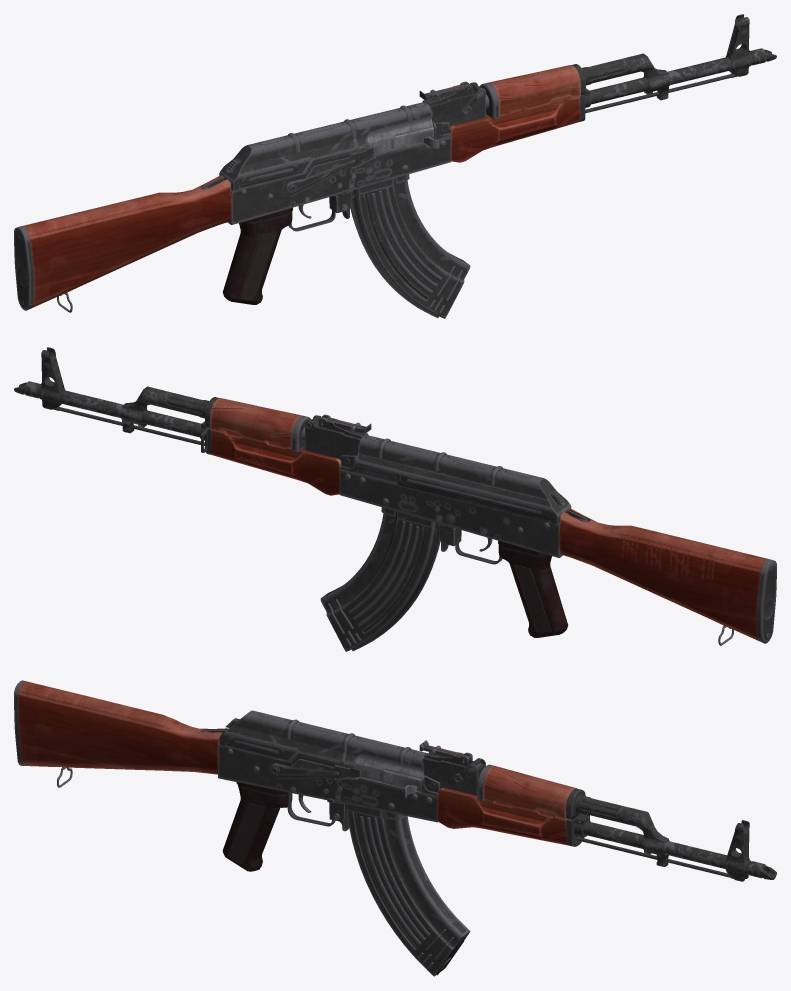
3 views of the same model, one above another, from view 1: azimuth 30°, elevation 25°; view 2: azimuth 150°, elevation 25°; view 3: azimuth 330°, elevation 25° (orthographic).
Parts seen in each view (by area): view 1: AKA_47, AKA_47.004, AKA_47.003; view 2: AKA_47, AKA_47.004, AKA_47.003; view 3: AKA_47, AKA_47.004, AKA_47.003.
Boxes of the visible parts, x1,y1,x2,y2 form: AKA_47: (14,65,580,318); AKA_47.004: (569,14,776,121); AKA_47.003: (571,53,670,100); AKA_47: (210,398,776,651); AKA_47.004: (14,347,221,454); AKA_47.003: (120,386,219,433); AKA_47: (14,680,577,976); AKA_47.004: (566,814,776,881); AKA_47.003: (566,788,669,866).
Size of the model in its own units: 2308 by 668 by 148.
